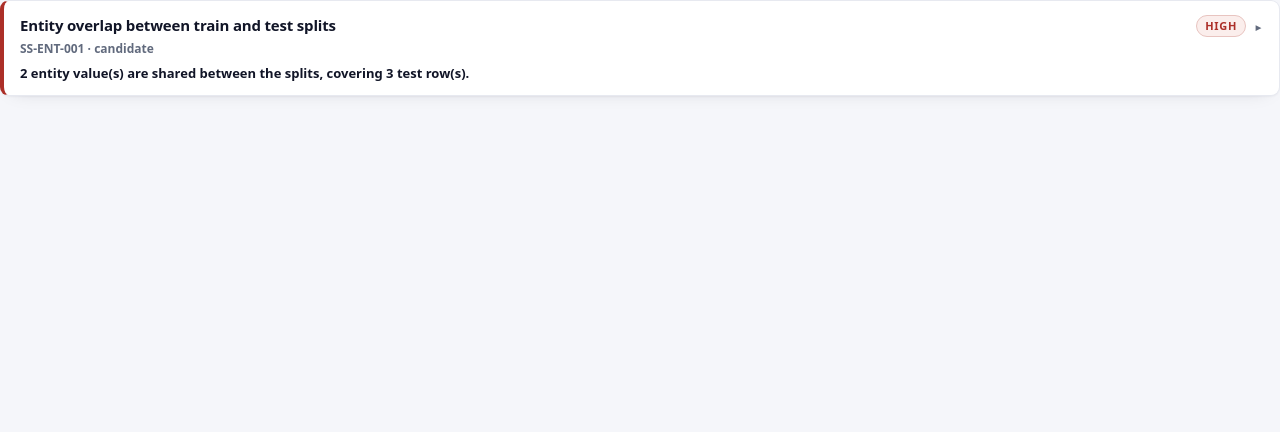
Test: collapsed and expanded evidence › states when a finding carries no examples instead of inventing rows
The width and height of the screenshot is (1280, 432).
Click the button "Entity overlap between train and test splits".
click(178, 25)  # box [20, 13, 1184, 83]
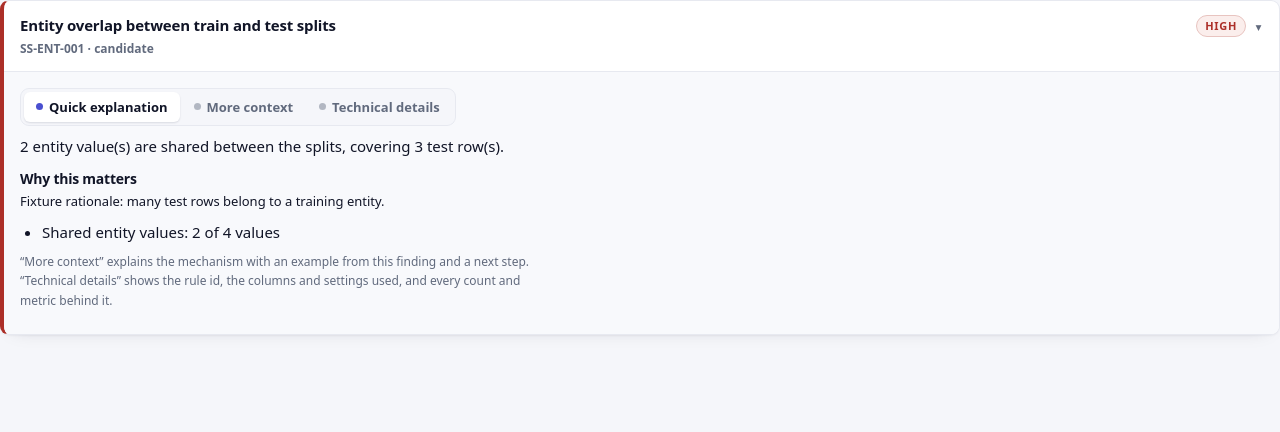
Click the button "More context".
click(243, 107)  # box [182, 92, 305, 122]
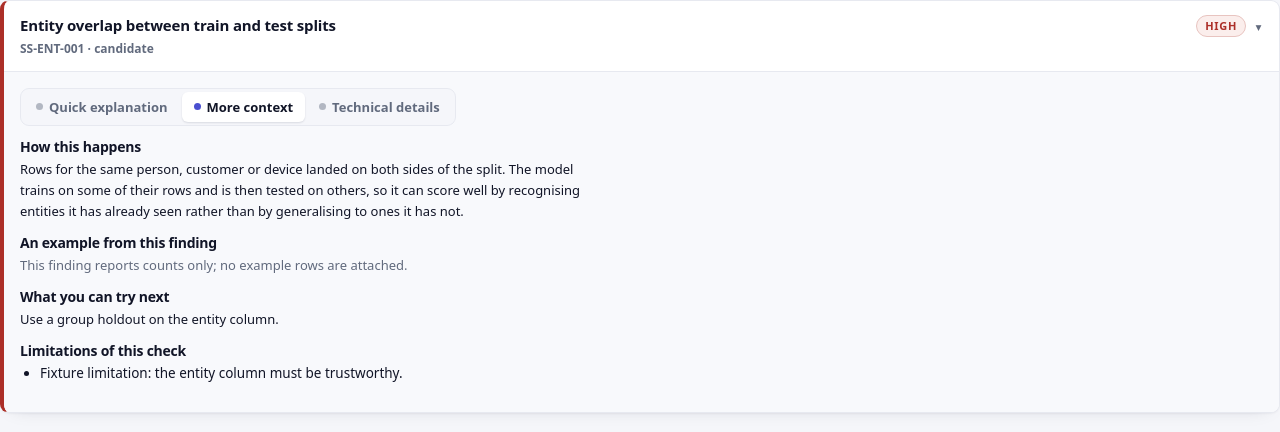
Now the text "This finding reports counts only; no example rows are attached." is shown, box [20, 256, 408, 274]
